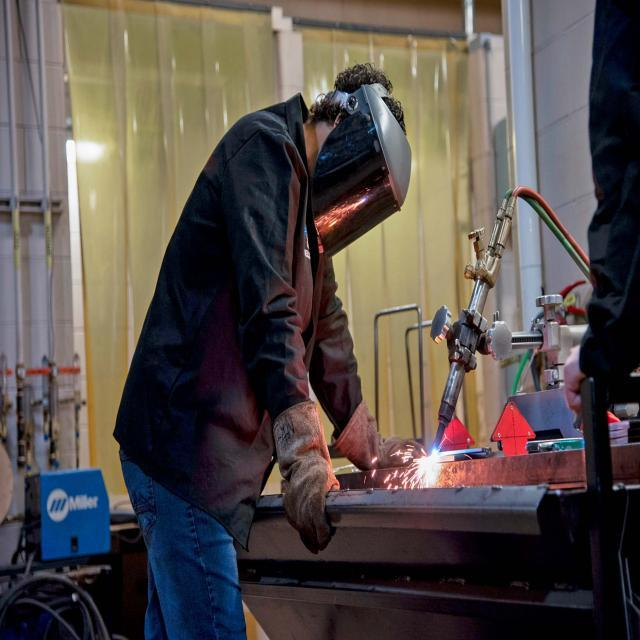with_helmet: (312, 83, 411, 254)
